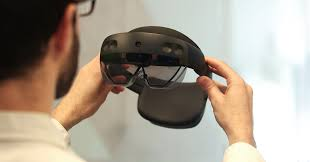hololens: (97, 23, 209, 132)
